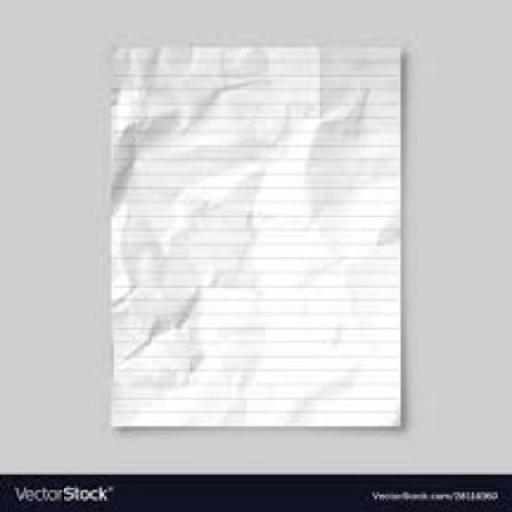paper: (75, 17, 440, 455)
